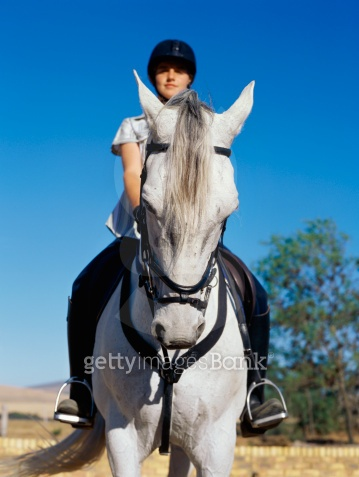horse: (91, 73, 255, 476)
woman: (66, 38, 266, 284)
